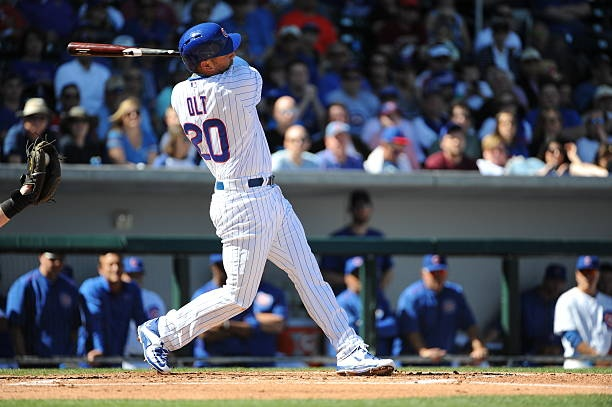bita: (67, 40, 180, 61)
